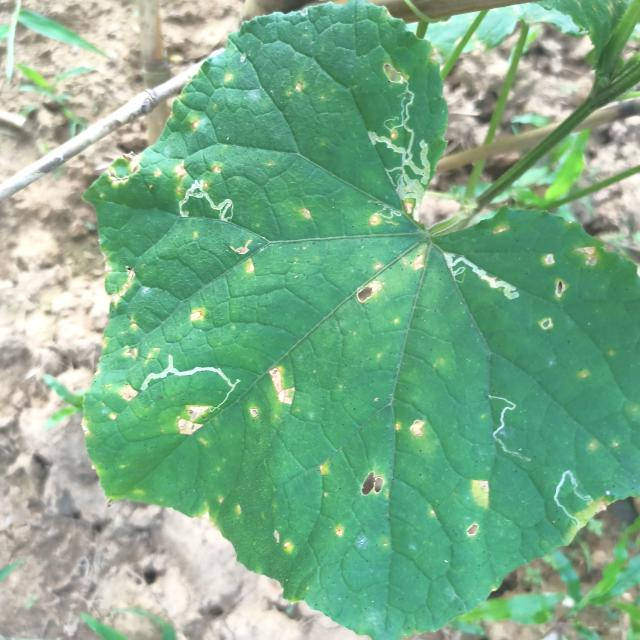disease_cucumber: (314, 460, 389, 547), (354, 217, 426, 306), (102, 270, 160, 370), (98, 148, 191, 194), (543, 244, 602, 304), (248, 364, 296, 424), (76, 383, 134, 432), (458, 480, 492, 544), (176, 402, 212, 439), (392, 416, 428, 444)
